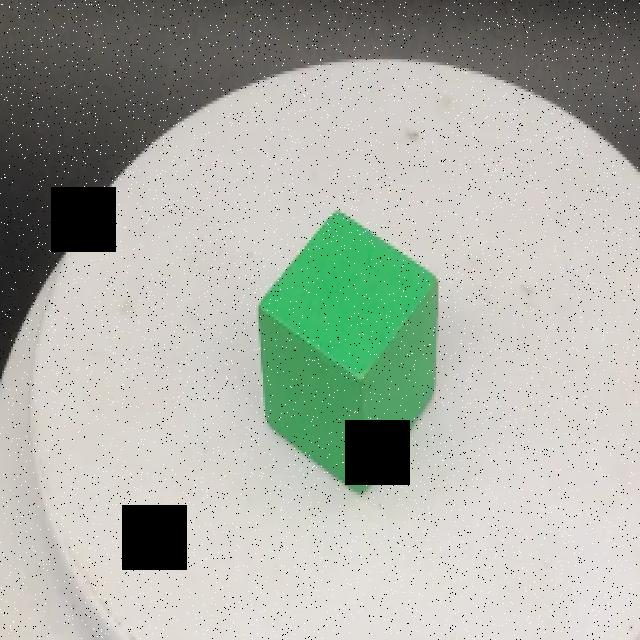green cube: (256, 205, 440, 496)
